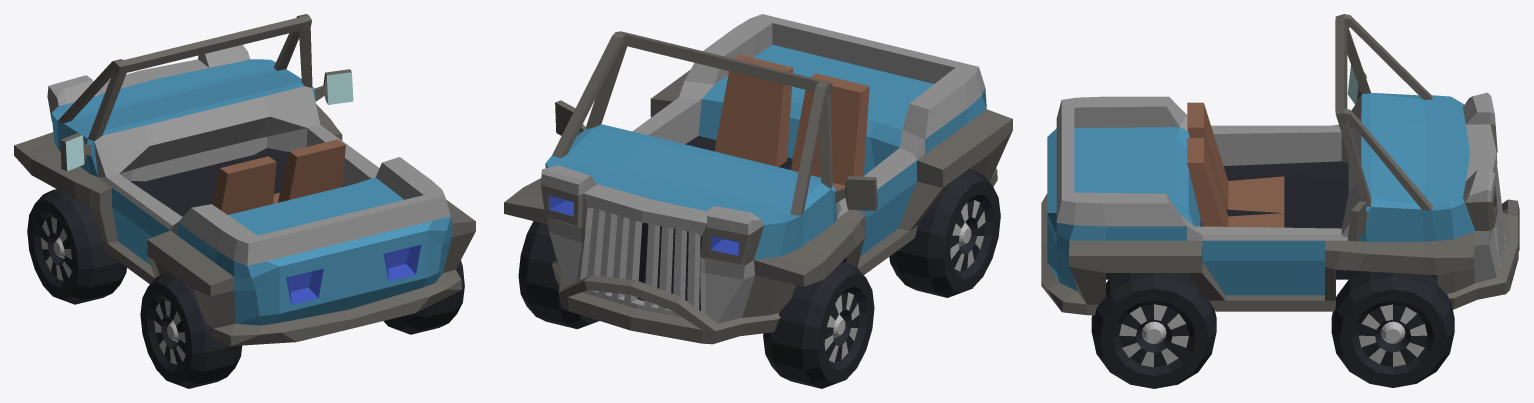
Rendered from AI Racer (Blue).fbx.
The picture shows the model from 3 angles, left to right: view 1: azimuth 30°, elevation 25°; view 2: azimuth 150°, elevation 25°; view 3: azimuth 270°, elevation 25°; orthographic projection. The views are drawn at different scales.
Parts seen in each view (by area): view 1: Car, Front Right, Back Right, Back Left; view 2: Car, Front Right, Back Right, Front Left; view 3: Car, Front Left, Back Left.
Boxes of the visible parts, <box> form: Car: <box>14,14,475,346</box>; Front Right: <box>27,189,126,304</box>; Back Right: <box>140,272,242,388</box>; Back Left: <box>383,260,464,334</box>; Car: <box>504,14,1012,344</box>; Front Right: <box>763,261,874,388</box>; Back Right: <box>889,169,1000,297</box>; Front Left: <box>518,221,598,329</box>; Car: <box>1041,14,1519,315</box>; Front Left: <box>1331,271,1454,387</box>; Back Left: <box>1091,273,1216,388</box>.
Size of the model in its own units: 255 by 210 by 348.
